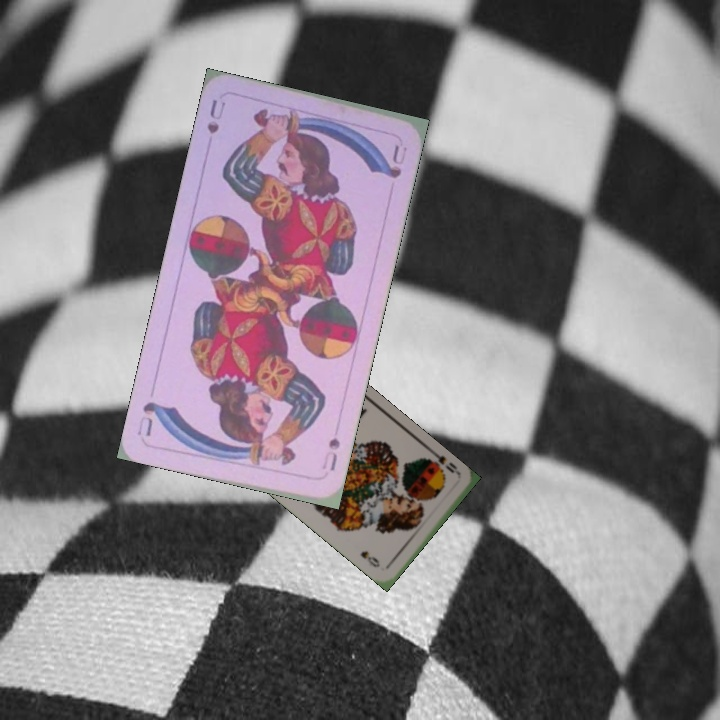SO: (424, 447, 463, 480)
SU: (203, 95, 229, 136), (324, 433, 343, 474)
